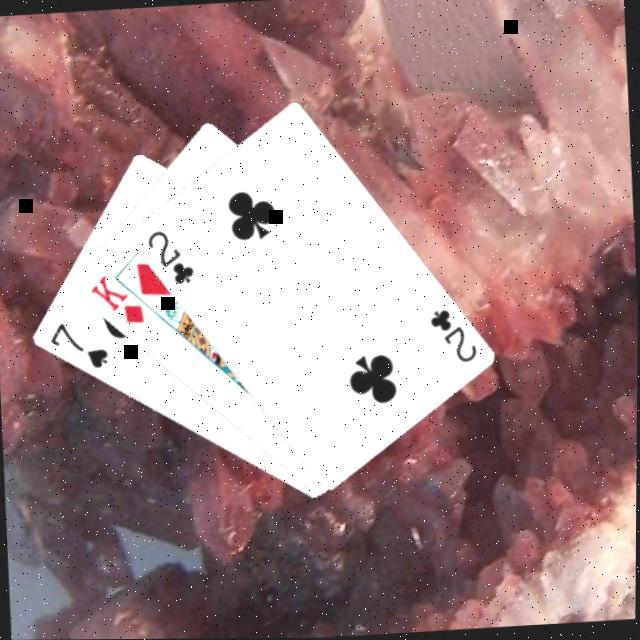2C: (144, 226, 200, 292), (428, 306, 483, 371)
7S: (46, 319, 114, 376)
KD: (88, 272, 150, 332)
